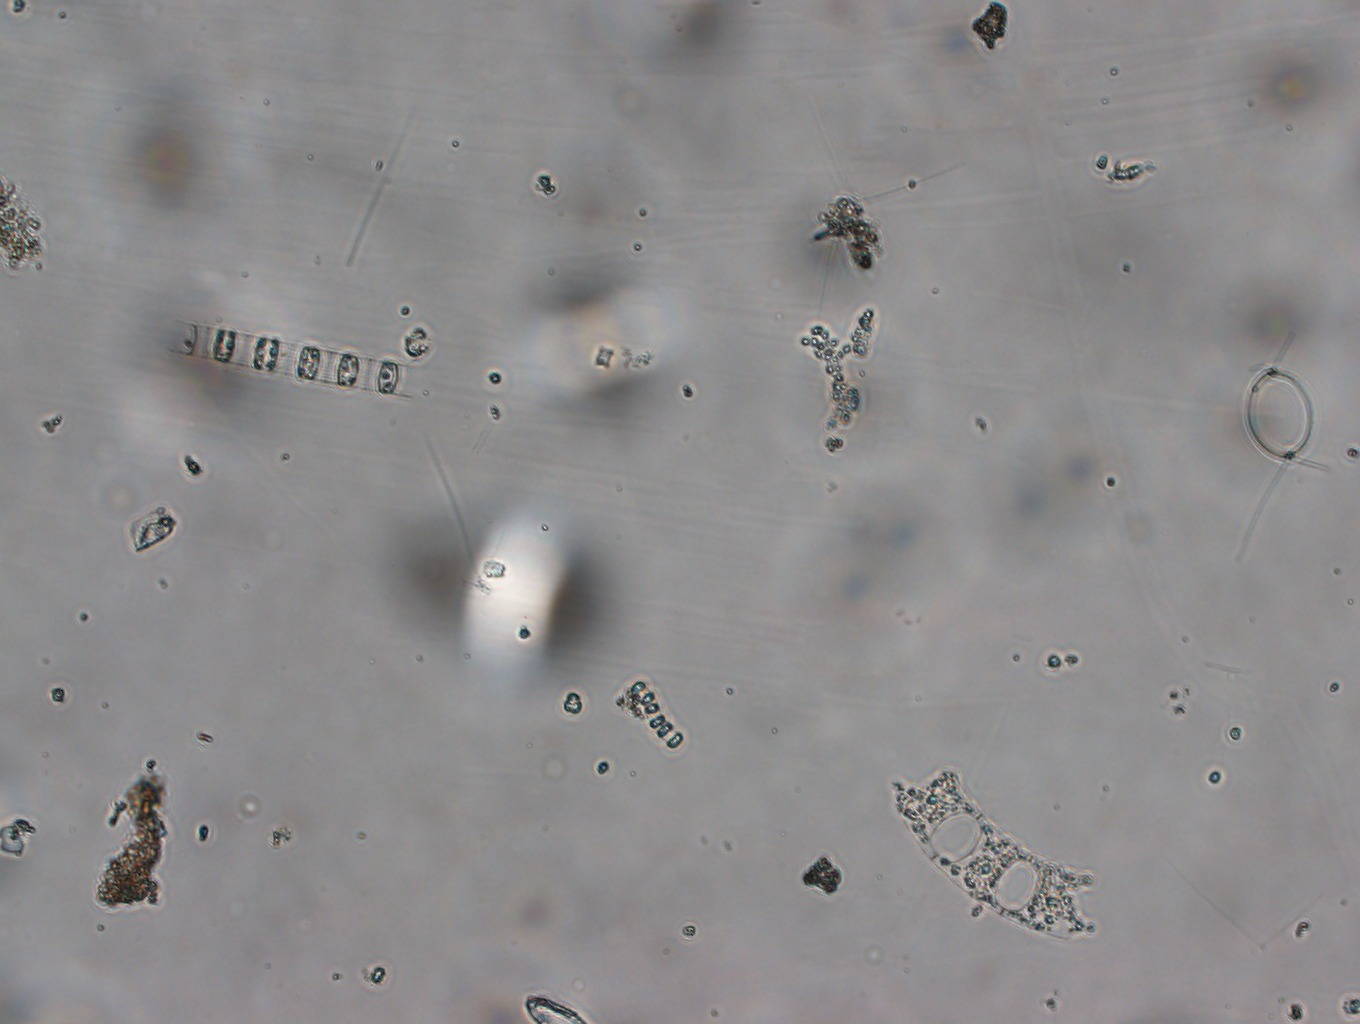eucampia: (890, 759, 1111, 947)
skeletonema: (166, 315, 535, 419)
